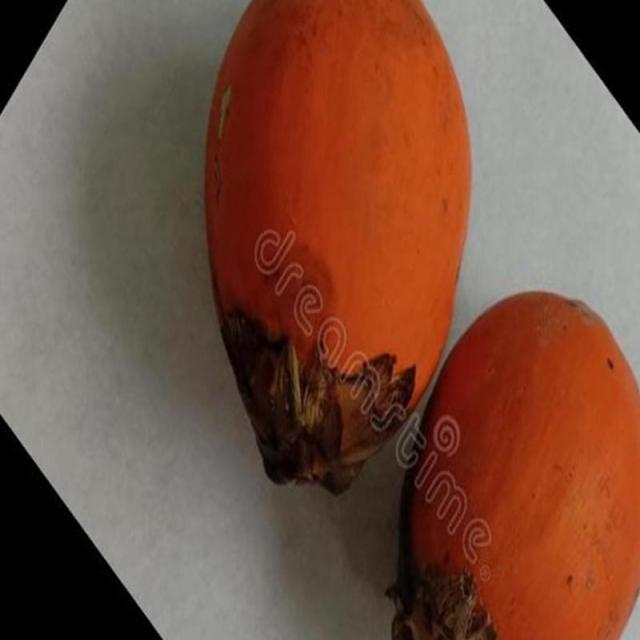good: (202, 0, 474, 496), (392, 292, 639, 639)
